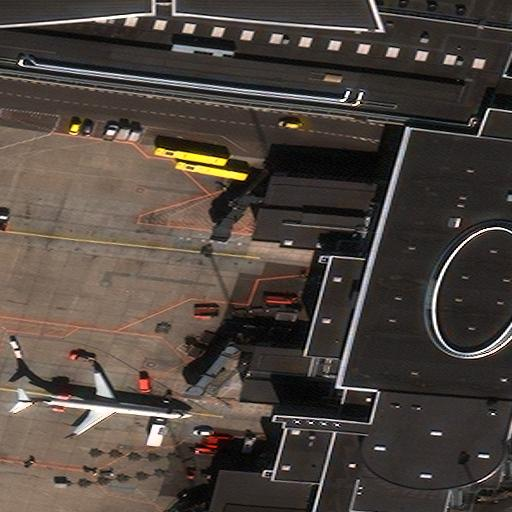Medium Civil Transport: (17, 373, 193, 435)
